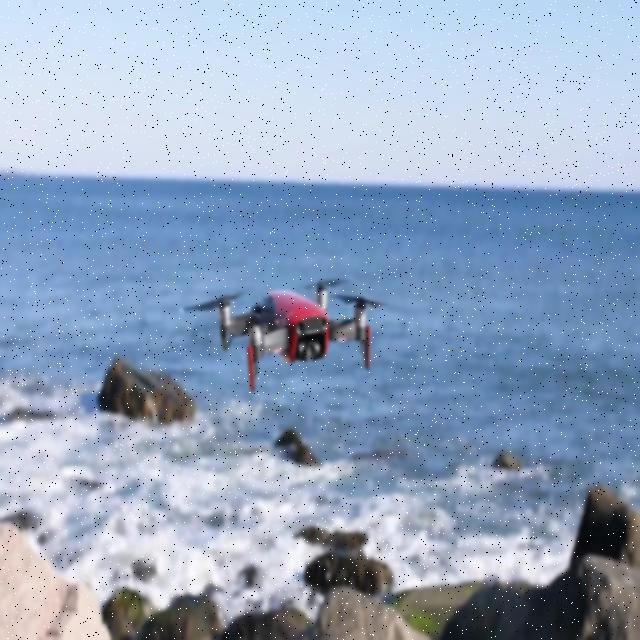UAV: (184, 279, 388, 393)
